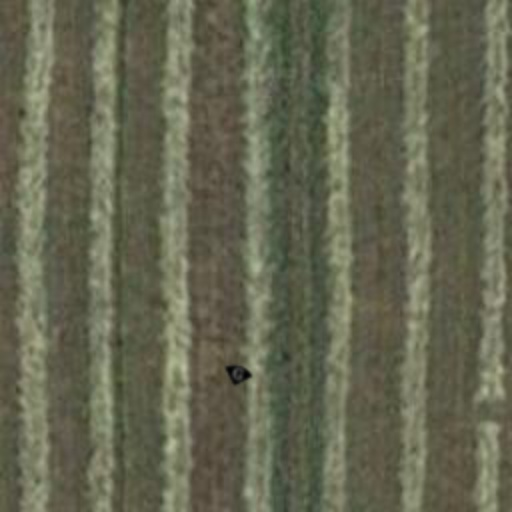quarter_circle: (220, 356, 256, 392)
